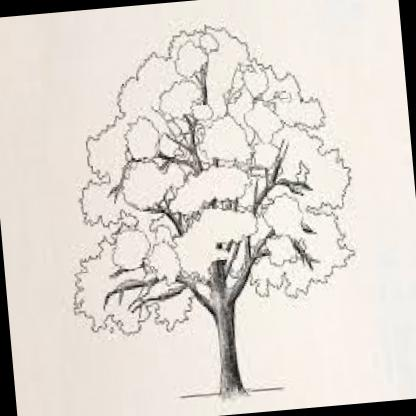branch_sharp: (154, 115, 322, 301)
crown_dizzy: (50, 18, 369, 342)
root_none: (213, 380, 257, 408)
trunk_bark: (214, 326, 242, 372)
